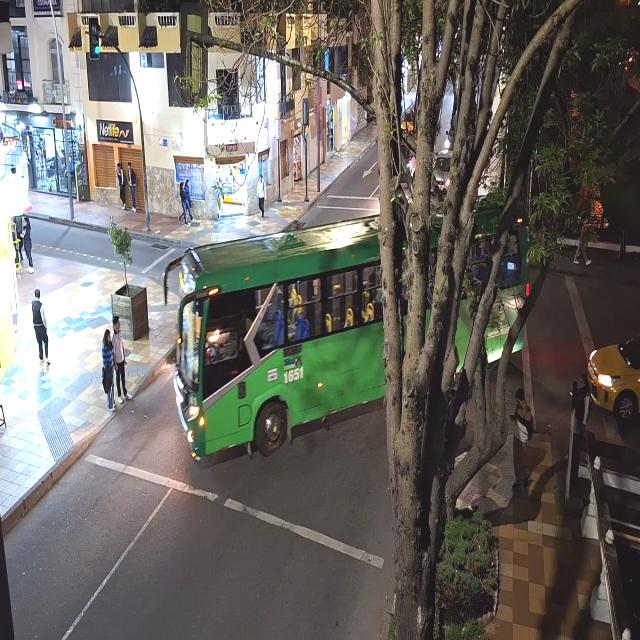BUS: (176, 248, 314, 466)
SED: (589, 331, 640, 413)
